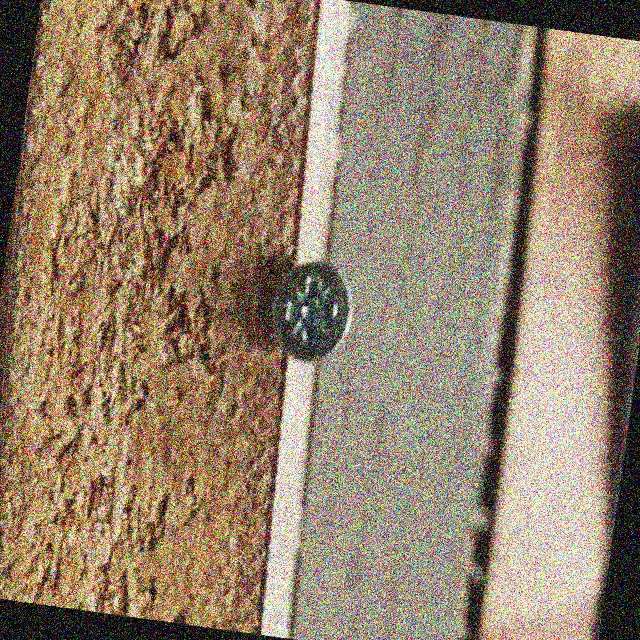pozidriv: (265, 256, 359, 367)
